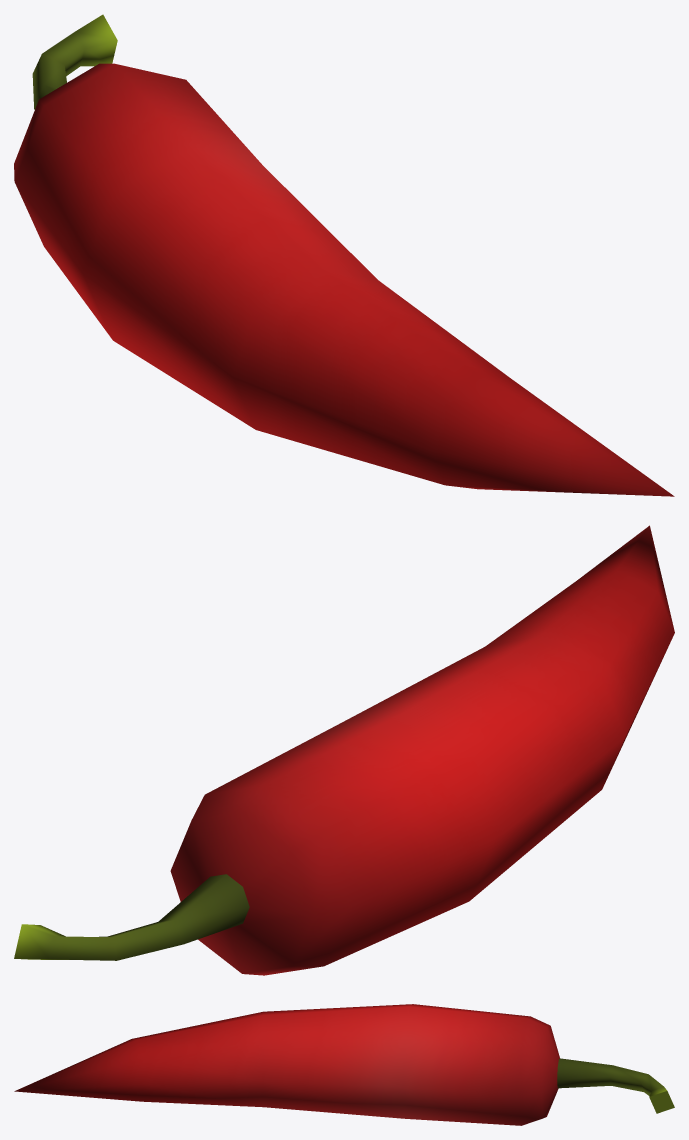
Rendered from Pepper.fbx.
3 views of the same model, one above another, from view 1: azimuth 30°, elevation 25°; view 2: azimuth 150°, elevation 25°; view 3: azimuth 270°, elevation 25° (orthographic). The views are drawn at different scales.
Parts seen in each view (by area): view 1: Pepper; view 2: Pepper; view 3: Pepper.
Part boxes in pixels (x1=…): Pepper: x1=14, y1=14, x2=674, y2=496; Pepper: x1=14, y1=525, x2=674, y2=975; Pepper: x1=14, y1=1004, x2=674, y2=1125.
Bounding box in the file's own units: 52.04 × 39.76 × 216.
